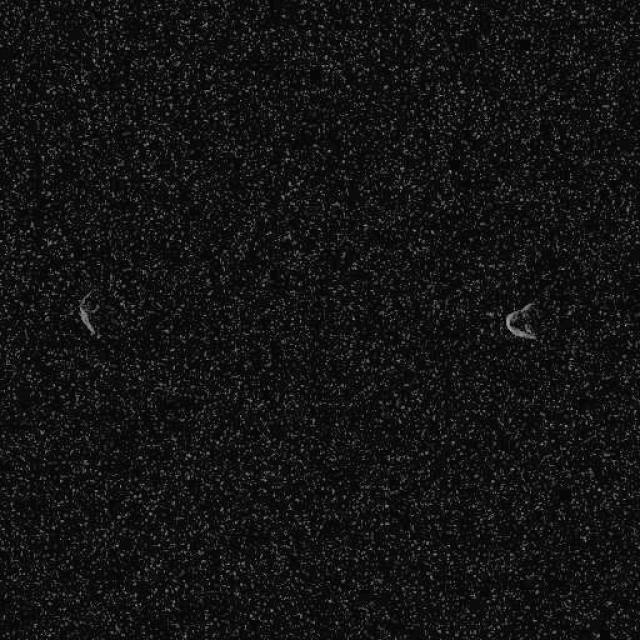D2: (504, 300, 540, 340), (76, 288, 102, 338)
